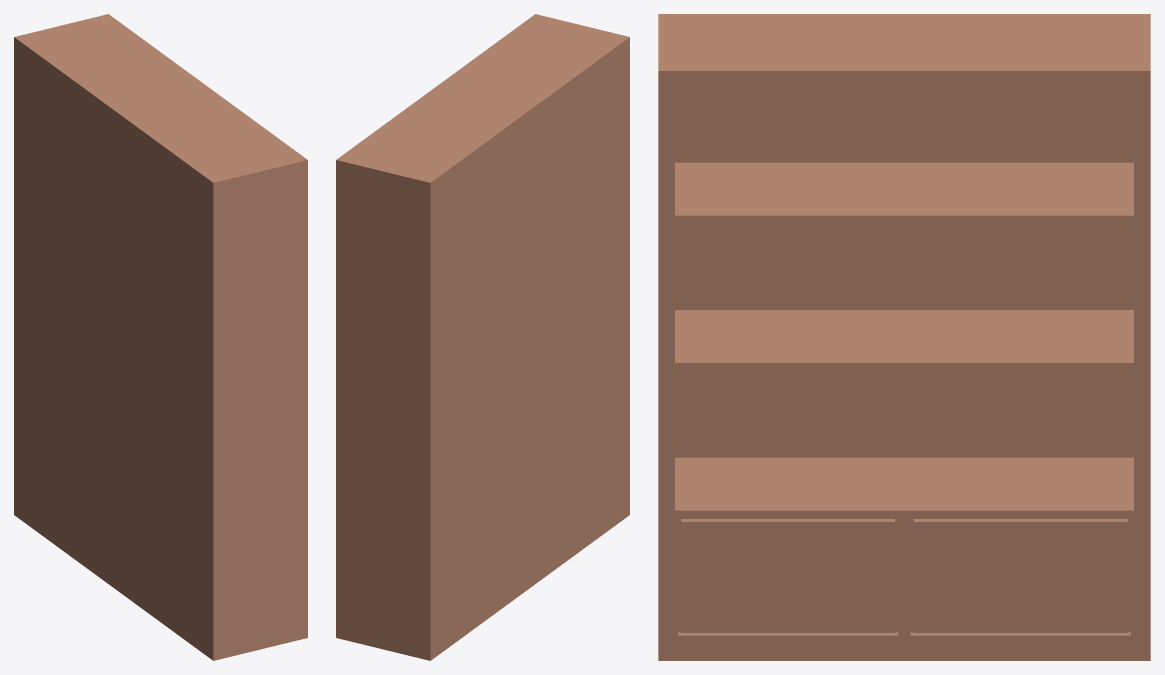
The model's file is BibliothequeSalon.fbx.
3 views of the same model, side by side, from view 1: azimuth 30°, elevation 25°; view 2: azimuth 150°, elevation 25°; view 3: azimuth 270°, elevation 25° (orthographic). The views are drawn at different scales.
Parts seen in each view (by area): view 1: Cube.035; view 2: Cube.035; view 3: Cube.035.
Boxes of the visible parts, <box> form: Cube.035: <box>14,14,307,660</box>; Cube.035: <box>336,14,629,660</box>; Cube.035: <box>658,14,1150,660</box>.
Bounding box in the file's own units: 110 × 534 × 404.
